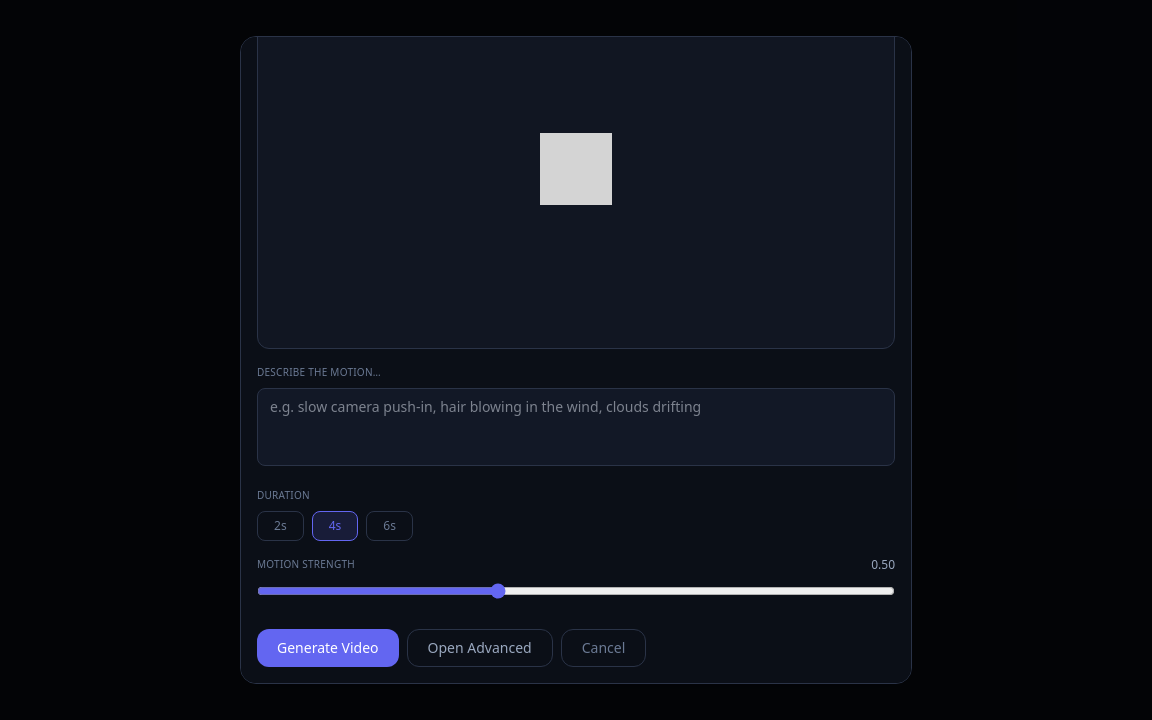
prompt paste › video motion prompt accepts keyboard paste
The width and height of the screenshot is (1152, 720).
(page scrolled)
Click the text box with placeholder "slow camera push-in" at (576, 427), box [257,388,895,466]
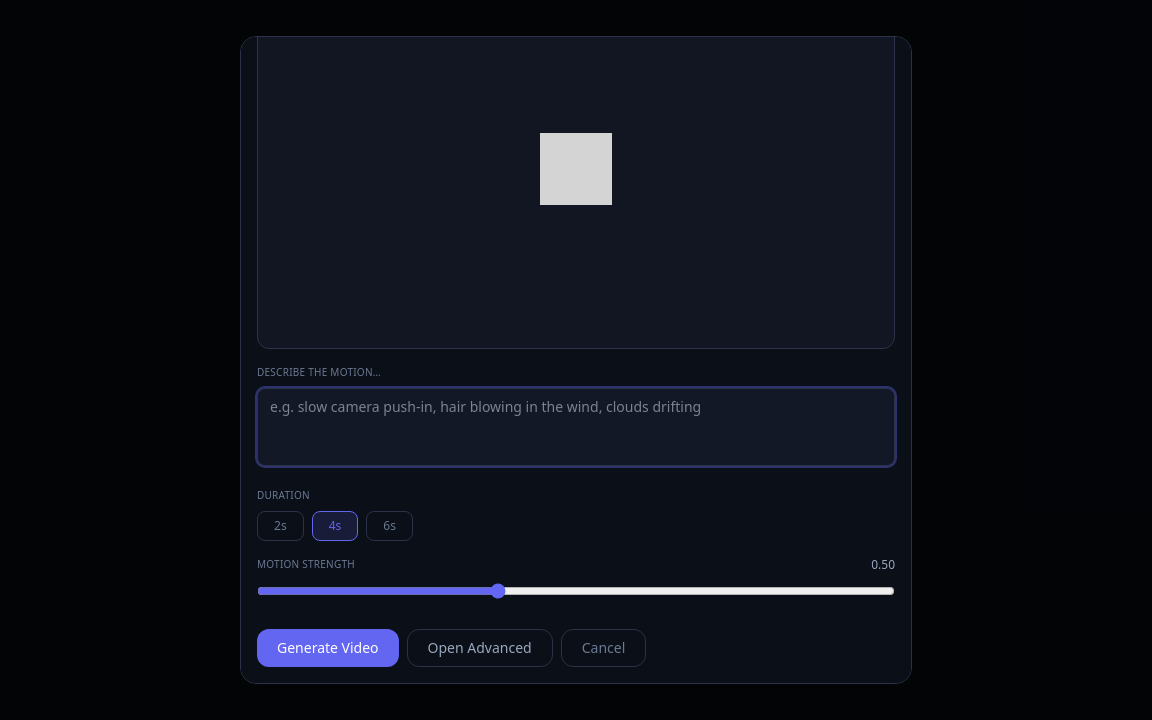
Type keys "slow cinematic camera push-in"
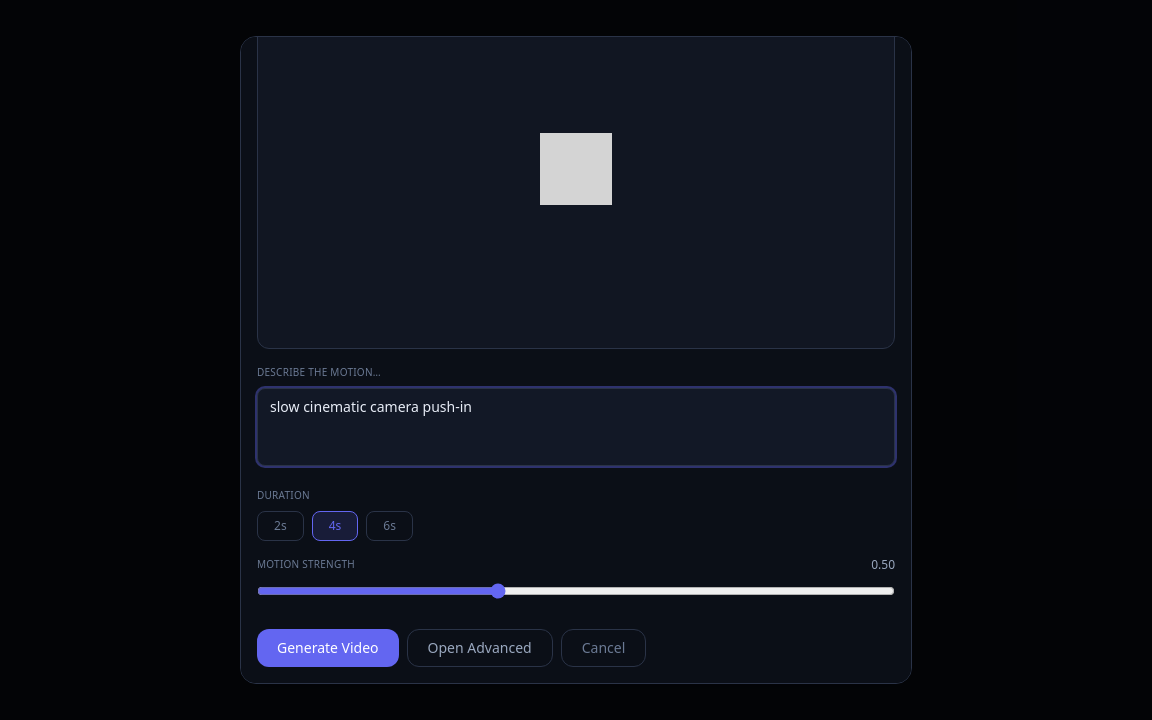
Check: the text box with placeholder "slow camera push-in" holds "slow cinematic camera push-in", box [257,388,895,466]
